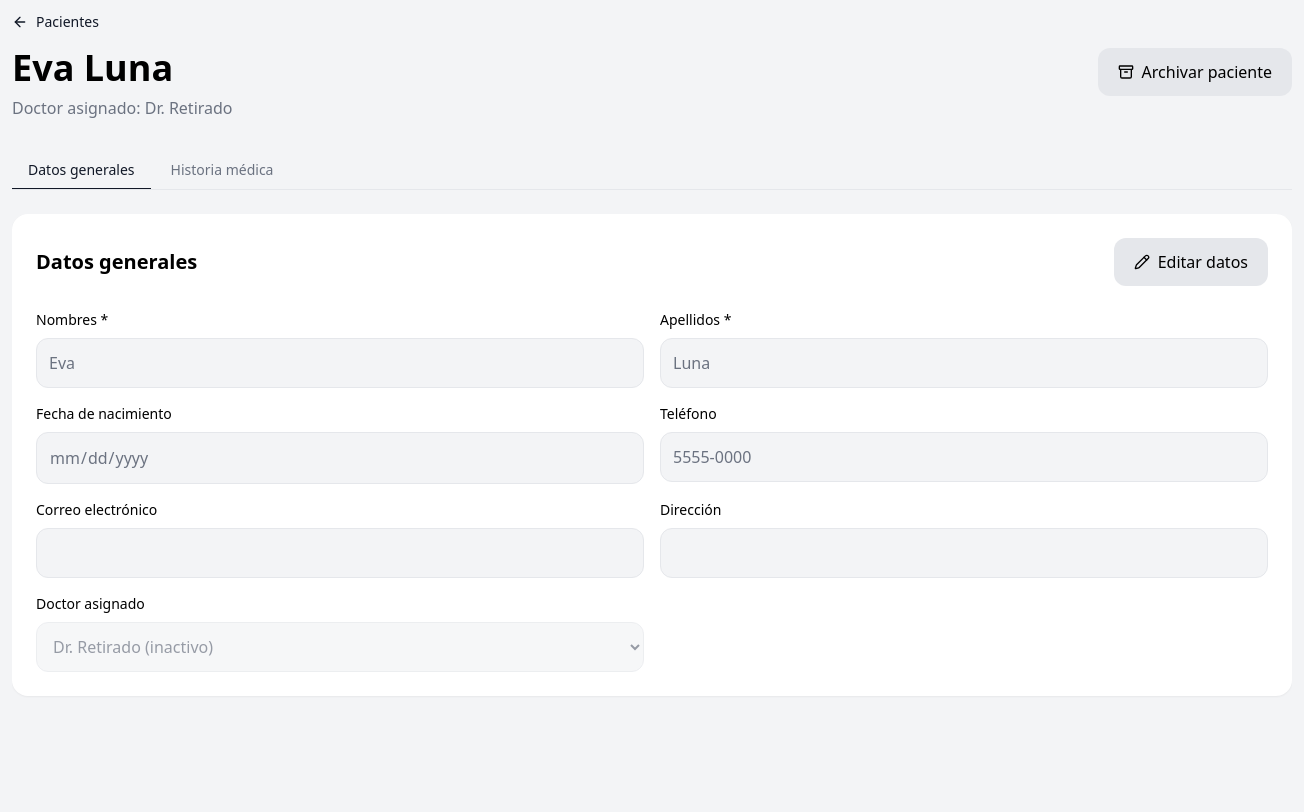
Scenario: PatientDetailPage › muestra la historia médica a recepción sin opción de editarla
Click the tab "Historia médica": (222, 171) 155,152 -> 290,190
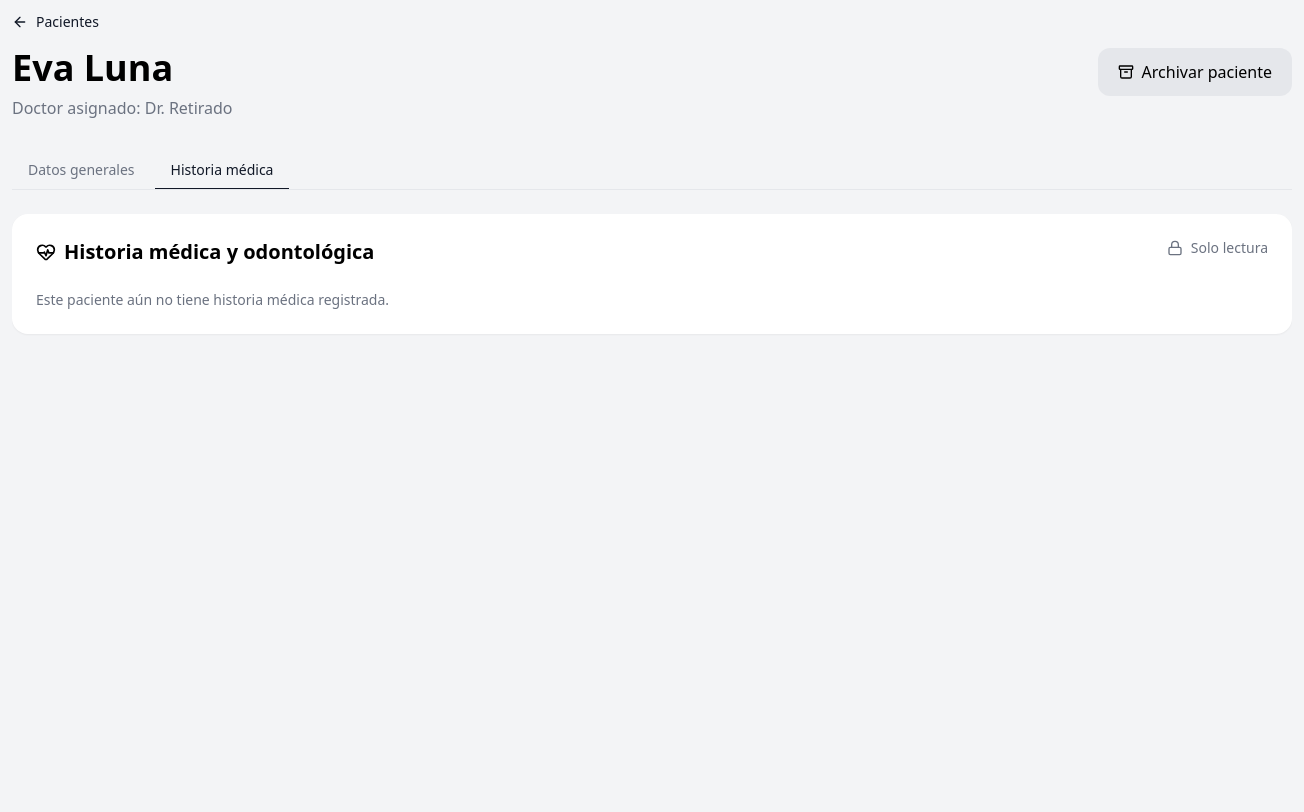
Result: the heading "Historia médica y odontológica" is shown at 36,238 -> 374,266
Result: the text "Este paciente aún no tiene historia médica registrada." is shown at 36,290 -> 389,309
Result: the label labelled "Nombres" is gone
